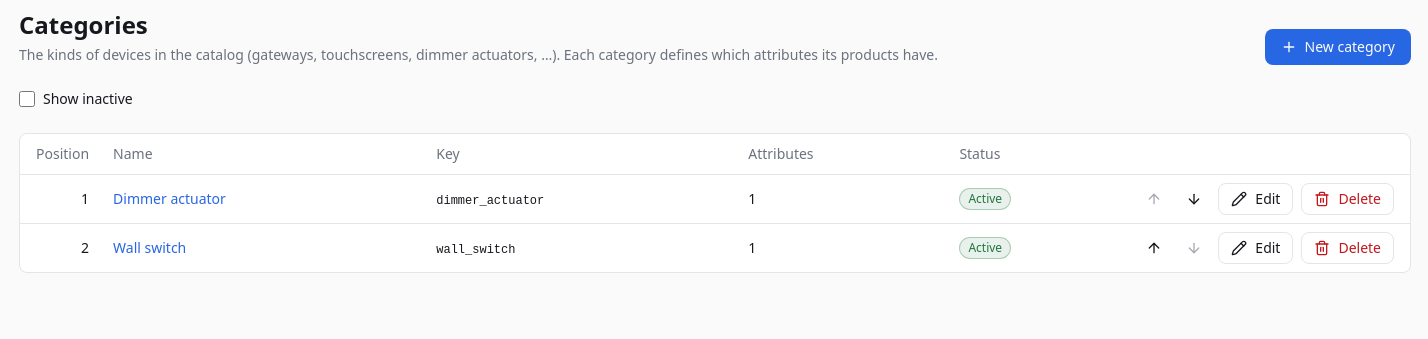
CategoriesPage › lists active categories and shows inactive ones on request
Expected: the text "dimmer_actuator" is shown, left=436, top=194, right=544, bottom=208
Expected: the text "Active" in the row of "dimmer_actuator" is shown, left=968, top=190, right=1002, bottom=207
Click the checkbox labelled "Show inactive" at (27,99), box left=19, top=91, right=35, bottom=107
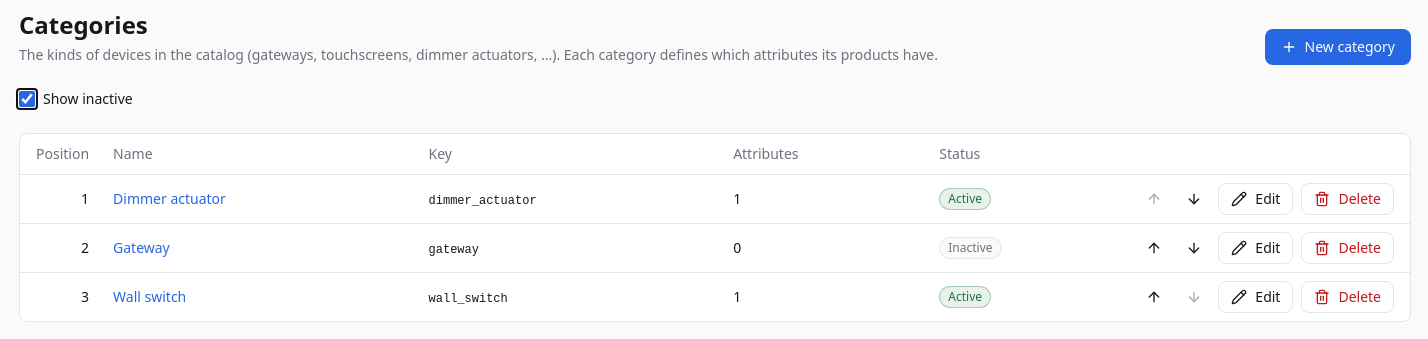
Expected: the text "Inactive" is shown, left=939, top=237, right=1002, bottom=259
